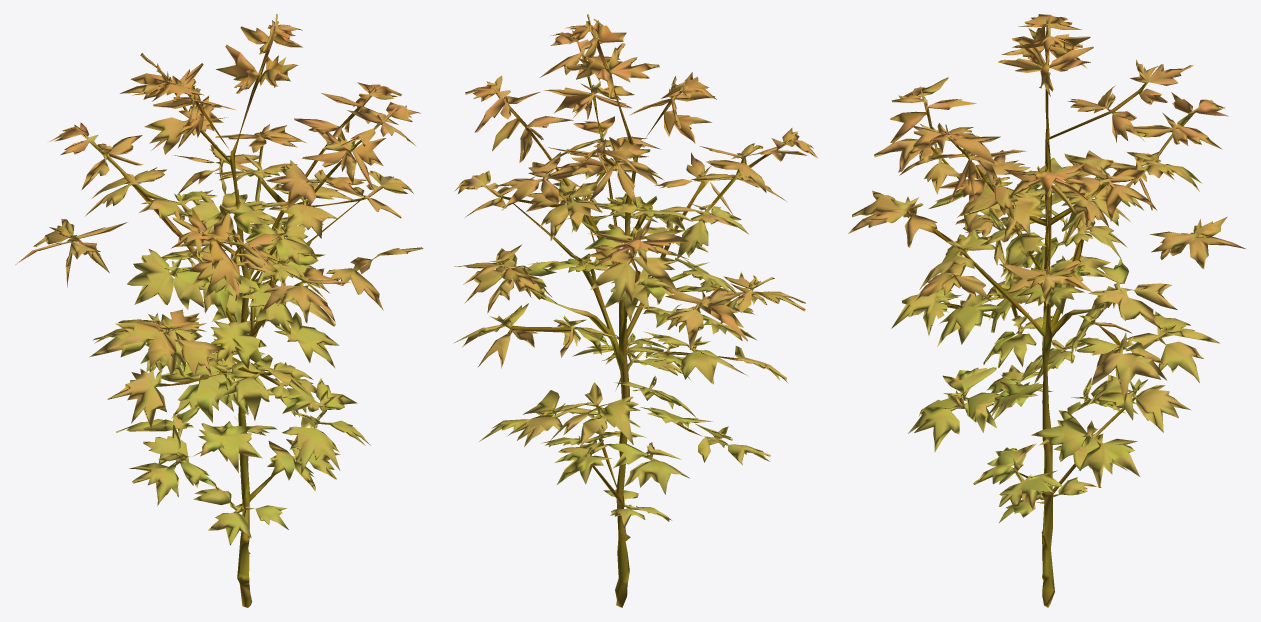
File: JiZhuaQi.glb
The picture shows the model from 3 angles, left to right: view 1: azimuth 30°, elevation 25°; view 2: azimuth 150°, elevation 25°; view 3: azimuth 270°, elevation 25°; orthographic projection. The views are drawn at different scales.
Parts seen in each view (by area): view 1: tripo_node_0510ca3f-8c43-4cf4-b824-33928fc686d8; view 2: tripo_node_0510ca3f-8c43-4cf4-b824-33928fc686d8; view 3: tripo_node_0510ca3f-8c43-4cf4-b824-33928fc686d8.
Part boxes in pixels (box(x1,y1,x2,y2)): tripo_node_0510ca3f-8c43-4cf4-b824-33928fc686d8: box(15, 14, 423, 607); tripo_node_0510ca3f-8c43-4cf4-b824-33928fc686d8: box(453, 14, 817, 607); tripo_node_0510ca3f-8c43-4cf4-b824-33928fc686d8: box(848, 14, 1245, 607).
Bounding box in the file's own units: 0.601 × 0.9678 × 0.5837.
Materials: 1 (1 with a texture image).
